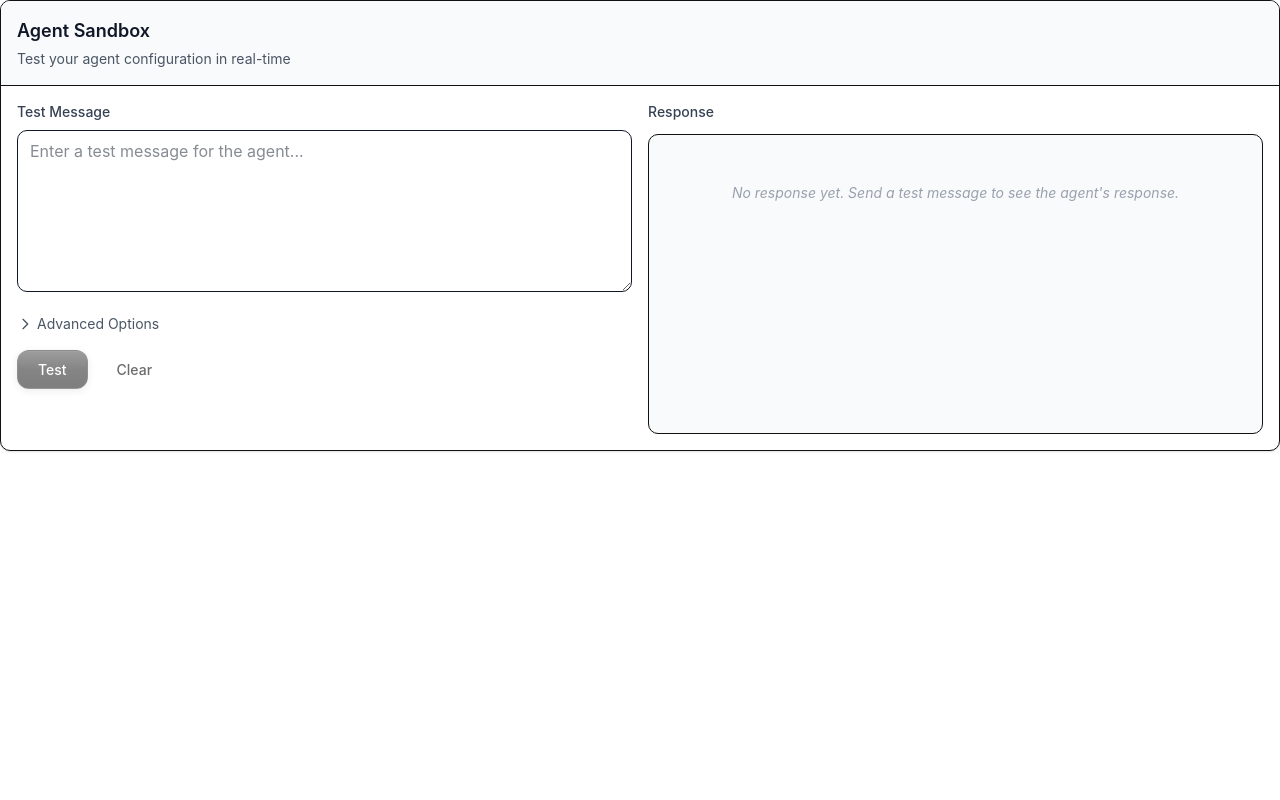
Scenario: AgentSandbox Component › Rendering › should show advanced options when expanded
The image size is (1280, 800).
Click the button "Advanced Options".
click(88, 324)  # box [17,314,159,334]
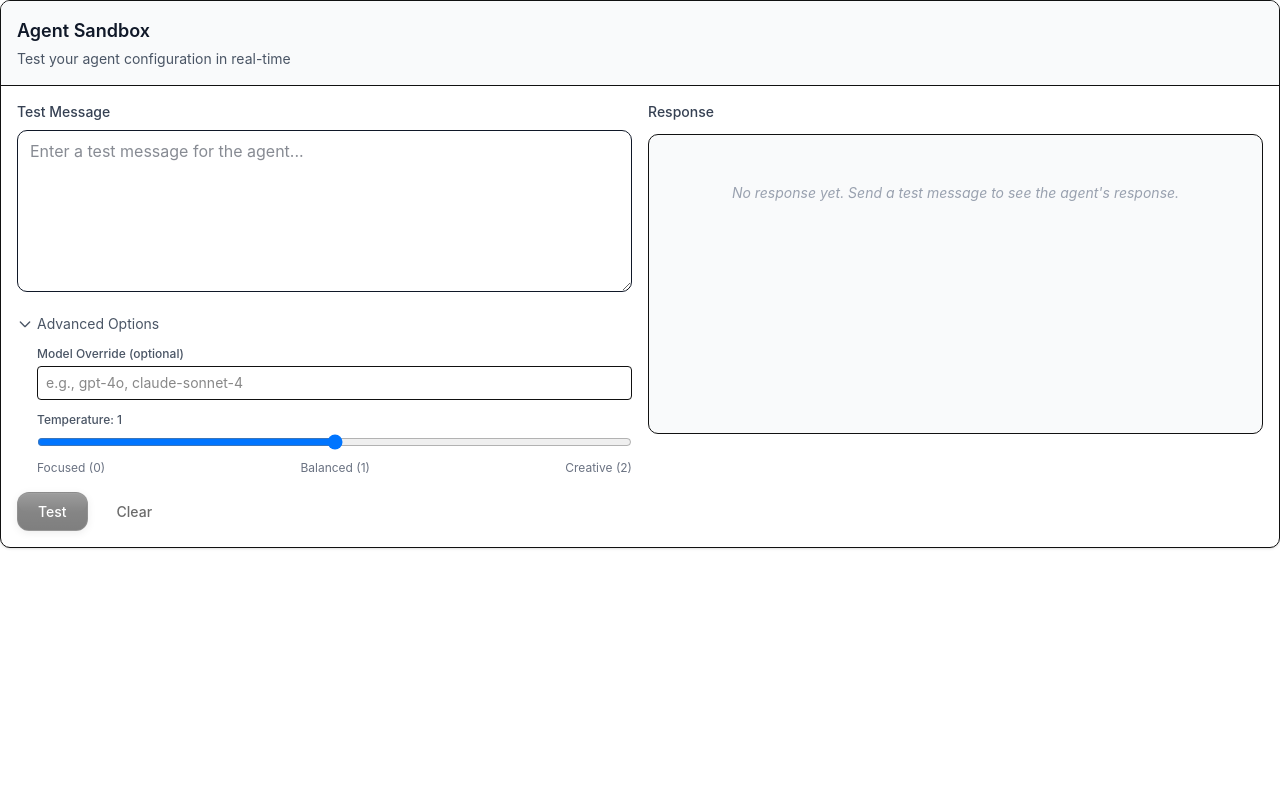
Check: the field labelled "Model Override (optional)" is shown, box [37,366,632,400]
Check: the slider labelled "Temperature: 1" is shown, box [37,434,632,450]
